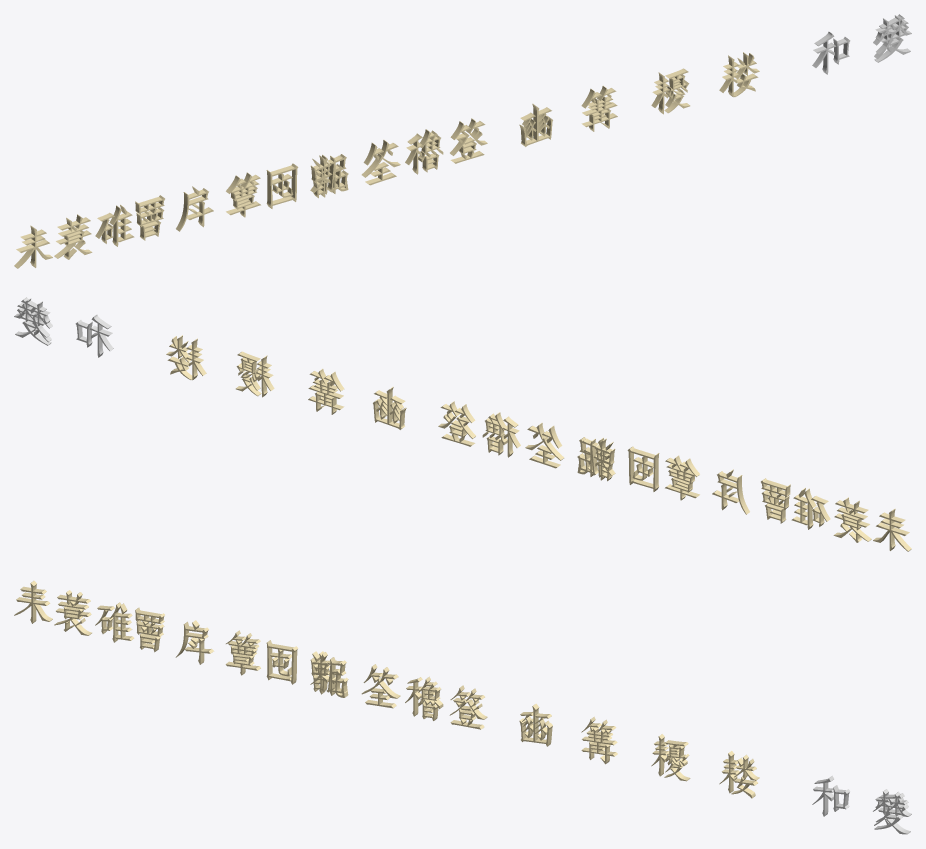
3 renders of one model, top to bottom at view 1: azimuth 30°, elevation 25°; view 2: azimuth 150°, elevation 25°; view 3: azimuth 330°, elevation 25°, orthographic.
Parts seen in each view (by area): view 1: you, lv, lou, gou, deng, dun, suo, bin, dian, dui, zeng, quan (+7 smaller); view 2: you, lv, lou, gou, deng, dun, suo, bin, dian, dui, zeng, quan (+7 smaller); view 3: you, lv, lou, dun, gou, suo, bin, zeng, dian, deng, dui, quan (+7 smaller).
Boxes of the visible parts, x1,y1,x2,y2 form: you: [651, 68, 690, 114]; lv: [405, 129, 443, 174]; lou: [719, 52, 759, 97]; gou: [581, 85, 617, 131]; deng: [450, 118, 487, 163]; dun: [266, 163, 298, 208]; suo: [54, 214, 92, 259]; bin: [519, 103, 552, 146]; dian: [226, 172, 260, 217]; dui: [95, 204, 134, 246]; zeng: [135, 195, 164, 240]; quan: [361, 139, 400, 185]; you: [235, 351, 274, 397]; lv: [482, 412, 520, 457]; lou: [166, 335, 206, 380]; gou: [308, 368, 344, 414]; deng: [438, 401, 475, 446]; dun: [627, 446, 659, 491]; suo: [833, 497, 871, 542]; bin: [373, 386, 406, 429]; dian: [665, 455, 699, 500]; dui: [791, 487, 830, 529]; zeng: [761, 478, 790, 523]; quan: [525, 422, 564, 468]; you: [651, 734, 690, 781]; lv: [405, 676, 443, 720]; lou: [719, 751, 759, 798]; dun: [266, 640, 298, 684]; gou: [581, 716, 617, 764]; suo: [54, 590, 91, 635]; bin: [519, 703, 552, 746]; zeng: [135, 607, 164, 652]; dian: [225, 630, 260, 675]; deng: [449, 685, 487, 729]; dui: [95, 602, 134, 642]; quan: [361, 664, 400, 708].
Size of the model in its own units: 43.14 by 1.91 by 0.3.
